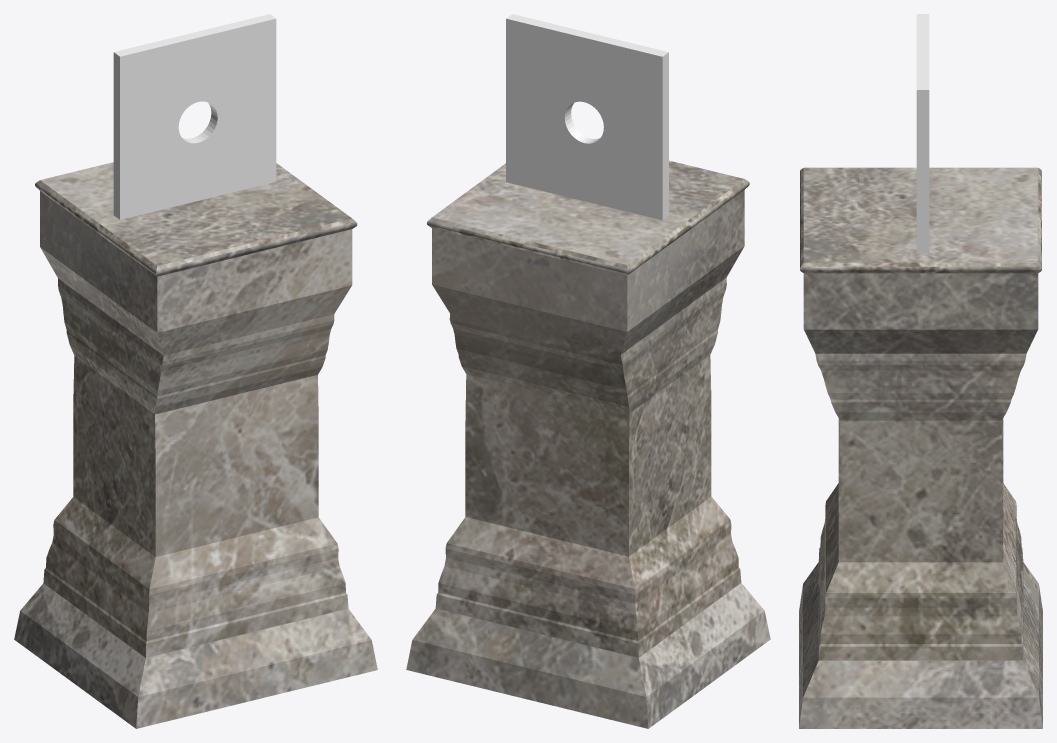
File: Moon_altar.glb
3 views of the same model, side by side, from view 1: azimuth 30°, elevation 25°; view 2: azimuth 150°, elevation 25°; view 3: azimuth 270°, elevation 25° (orthographic).
Visible parts, largest first — view 1: Cube.016, Cube.017; view 2: Cube.016, Cube.017; view 3: Cube.016, Cube.017.
Part boxes in pixels (left/top/right/bottom): Cube.016: left=14, top=162, right=377, bottom=728; Cube.017: left=113, top=14, right=276, bottom=219; Cube.016: left=406, top=160, right=770, bottom=728; Cube.017: left=506, top=14, right=668, bottom=220; Cube.016: left=799, top=167, right=1042, bottom=728; Cube.017: left=916, top=14, right=929, bottom=253.
Size of the model in its own units: 3.09 by 7.59 by 2.71.
2 materials, 1 textured.
